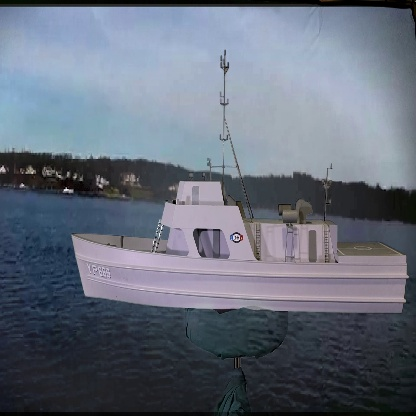YP689: (72, 50, 406, 317)
